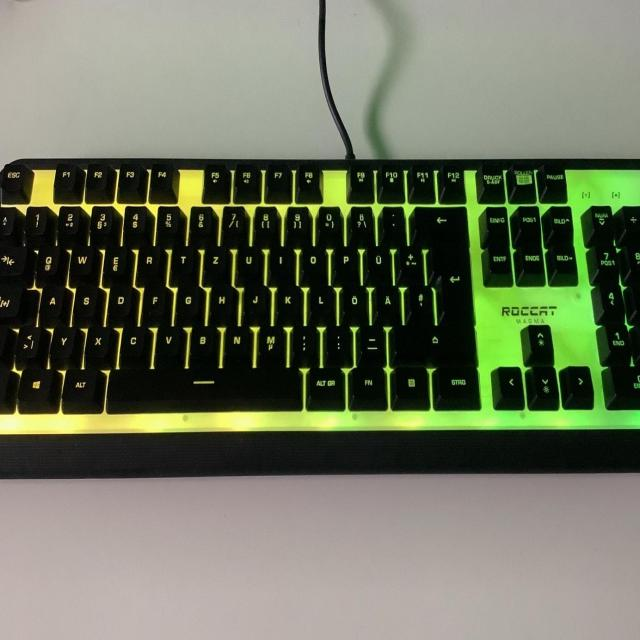0: (314, 203, 342, 243)
1: (22, 203, 47, 235)
2: (55, 203, 80, 236)
3: (88, 203, 113, 239)
4: (121, 202, 148, 240)
5: (154, 202, 181, 241)
6: (187, 202, 216, 240)
7: (220, 202, 246, 243)
8: (251, 202, 279, 244)
9: (283, 202, 311, 243)
a: (37, 283, 66, 321)
accent: (378, 203, 405, 241)
ae: (371, 283, 400, 322)
alt-left: (59, 364, 102, 412)
altgr-right: (304, 365, 345, 409)
b: (186, 323, 220, 362)
c: (115, 323, 149, 360)
caret: (0, 204, 14, 234)
comma: (288, 324, 319, 363)
d: (104, 282, 135, 320)
del: (410, 204, 466, 239)
e: (99, 243, 129, 280)
enter: (425, 242, 472, 323)
f: (138, 282, 168, 320)
g: (172, 283, 203, 321)
h: (206, 283, 236, 322)
hash: (403, 284, 433, 319)
i: (265, 244, 295, 280)
j: (240, 281, 270, 321)
k: (273, 283, 302, 321)
keyboard: (0, 152, 640, 480)
l: (306, 283, 335, 321)
less: (14, 323, 39, 358)
m: (255, 323, 286, 362)
minus: (354, 323, 385, 362)
n: (221, 323, 253, 362)
o: (296, 246, 327, 282)
oe: (338, 283, 368, 321)
p: (329, 244, 359, 281)
plus: (393, 243, 423, 280)
point: (323, 323, 351, 362)
q: (32, 244, 60, 278)
r: (132, 243, 164, 281)
s: (70, 282, 98, 322)
shift-left: (0, 324, 12, 359)
shift-lock: (0, 282, 21, 318)
shift-right: (390, 323, 481, 361)
space: (101, 365, 303, 415)
ss: (347, 204, 374, 242)
strg-left: (0, 365, 14, 410)
strg-right: (430, 363, 481, 409)
t: (167, 243, 196, 280)
tab: (0, 243, 26, 275)
u: (231, 244, 263, 282)
ue: (361, 244, 391, 282)
v: (152, 325, 186, 362)
w: (66, 243, 96, 281)
x: (82, 324, 109, 358)
y: (47, 324, 74, 358)
z: (199, 244, 230, 281)
